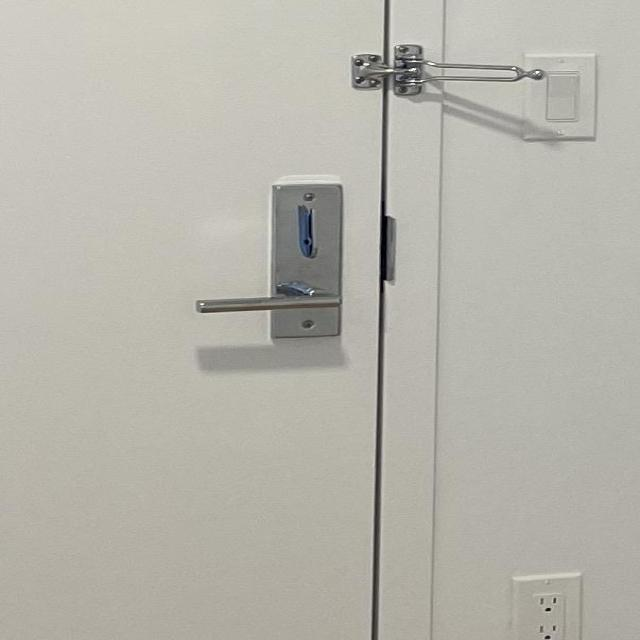door_handle: (190, 268, 363, 330)
